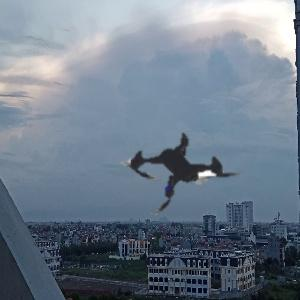drone: (89, 80, 279, 270)
